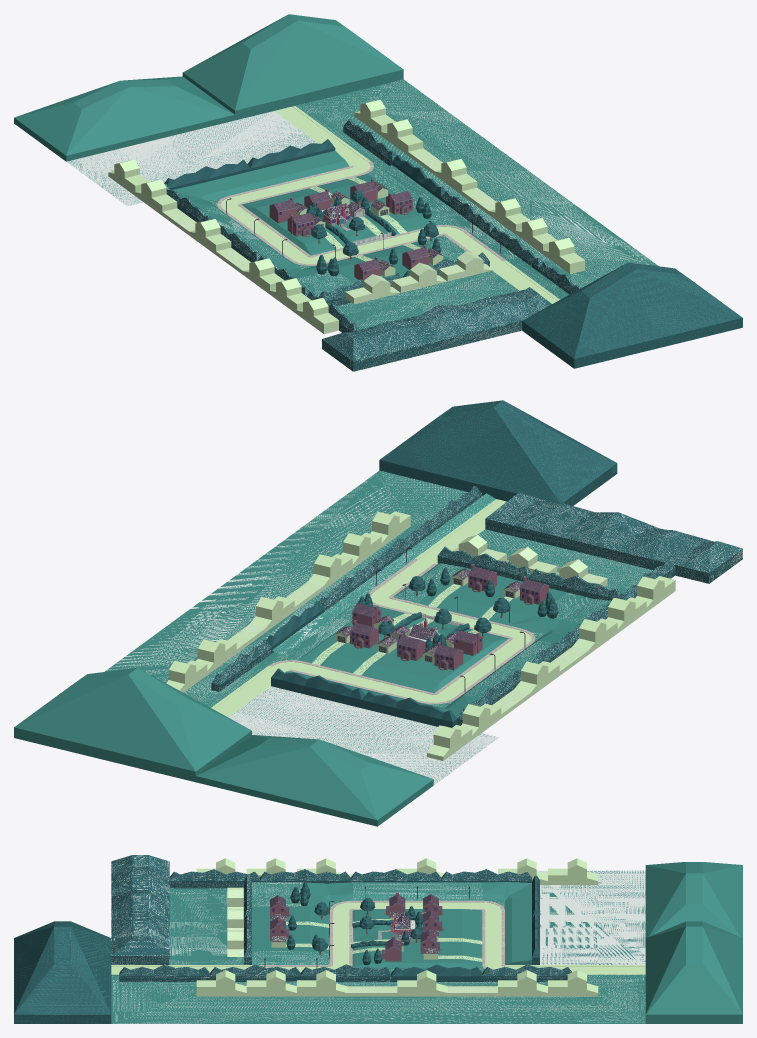
The model's file is house_4.dae.
The picture shows the model from 3 angles, top to bottom: view 1: azimuth 30°, elevation 25°; view 2: azimuth 150°, elevation 25°; view 3: azimuth 270°, elevation 25°; orthographic projection. The views are drawn at different scales.
Visible parts, largest first — view 1: SketchUp (×3), Group_28, group_20, Group_8 (×8), group_19, group_12, Group_47 (×7), group_11, group_16, group_10 (×2), group_17, neighbour_lawn (×2) (+4 smaller); view 2: SketchUp (×3), group_20, Group_28, Group_8 (×8), group_19, Group_47 (×10), group_12, group_10 (×2), group_11, group_7, group_27, group_13 (+6 smaller); view 3: SketchUp (×3), Group_47 (×13), Group_8 (×7), group_20, Group_28, group_19, group_12, group_10 (×2), group_16, group_11, group_28, group_14 (+9 smaller).
Part boxes in pixels (box(x1,y1,x2,y2)): SketchUp (×3): box(66, 79, 658, 329); Group_28: box(522, 262, 742, 368); group_20: box(182, 14, 403, 120); Group_8 (×8): box(108, 99, 584, 333); group_19: box(14, 76, 234, 161); group_12: box(322, 287, 551, 371); Group_47 (×7): box(164, 119, 542, 306); group_11: box(345, 251, 493, 304); group_16: box(215, 150, 349, 195); group_10 (×2): box(201, 206, 353, 296); group_17: box(274, 106, 370, 166); neighbour_lawn (×2): box(242, 196, 345, 255); SketchUp (×3): box(104, 470, 652, 785); group_20: box(14, 667, 251, 782); Group_28: box(379, 400, 617, 505); Group_8 (×8): box(166, 511, 675, 760); group_19: box(195, 735, 433, 826); Group_47 (×10): box(211, 486, 621, 727); group_12: box(485, 492, 742, 583); group_10 (×2): box(458, 592, 611, 698); group_11: box(453, 534, 607, 586); group_7: box(418, 567, 514, 615); group_27: box(343, 638, 422, 683); group_13: box(415, 499, 506, 563); SketchUp (×3): box(111, 870, 645, 1023); Group_47 (×13): box(119, 869, 571, 981); Group_8 (×7): box(196, 858, 598, 996); group_20: box(645, 921, 742, 1023); Group_28: box(14, 921, 111, 1023); group_19: box(645, 862, 742, 937); group_12: box(111, 855, 169, 964); group_10 (×2): box(252, 882, 482, 907); group_16: box(505, 905, 531, 964); group_11: box(227, 887, 243, 956); group_28: box(412, 945, 482, 967); group_14: box(482, 882, 531, 909).
Size of the model in its own units: 8819 by 17714 by 1993.
